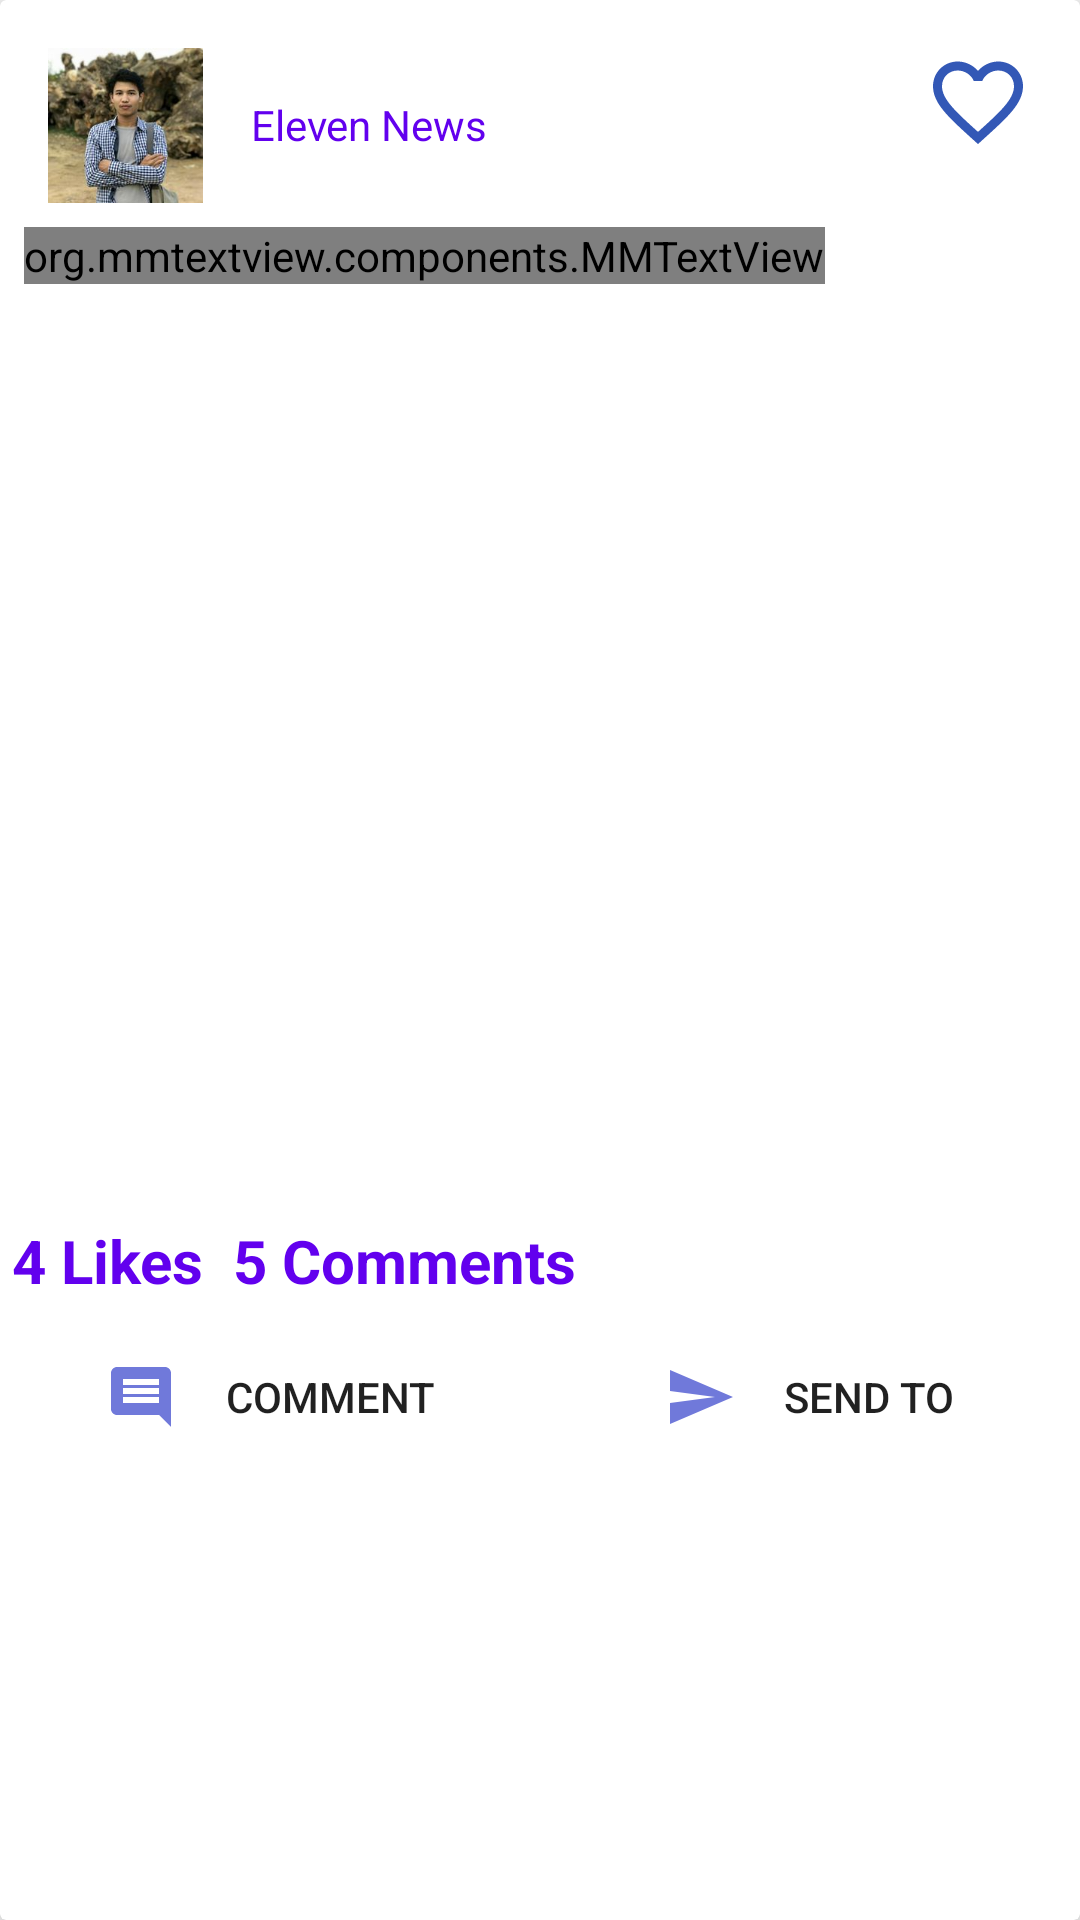

Icon bounding boxes for this 1080×1920 phone screenshot, format (x1, y1, x2, y2):
favorite border: (933, 61, 1023, 144)
